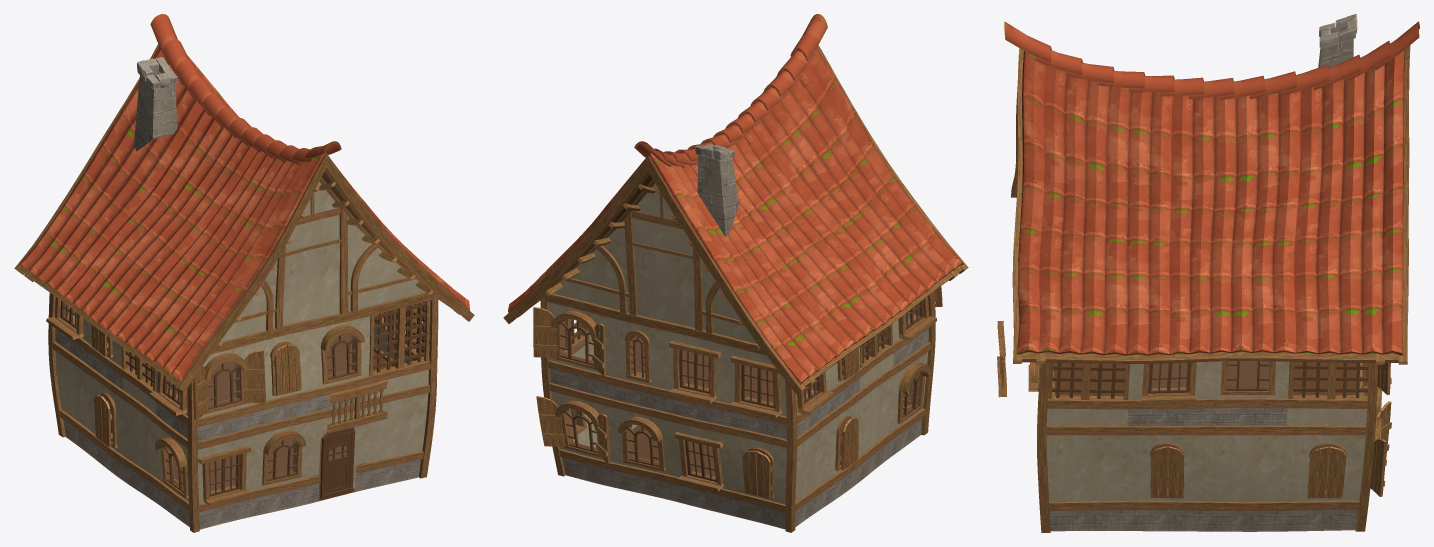
The picture shows the model from 3 angles, left to right: view 1: azimuth 30°, elevation 25°; view 2: azimuth 150°, elevation 25°; view 3: azimuth 270°, elevation 25°; orthographic projection. The views are drawn at different scales.
Parts seen in each view (by area): view 1: H09; view 2: H09; view 3: H09.
Boxes of the visible parts, x1,y1,x2,y2 form: H09: (14, 14, 474, 532); H09: (503, 14, 968, 532); H09: (997, 14, 1419, 532).
Bounding box in the file's own units: 10.52 × 12.61 × 10.78.
36 materials, 32 textured.
